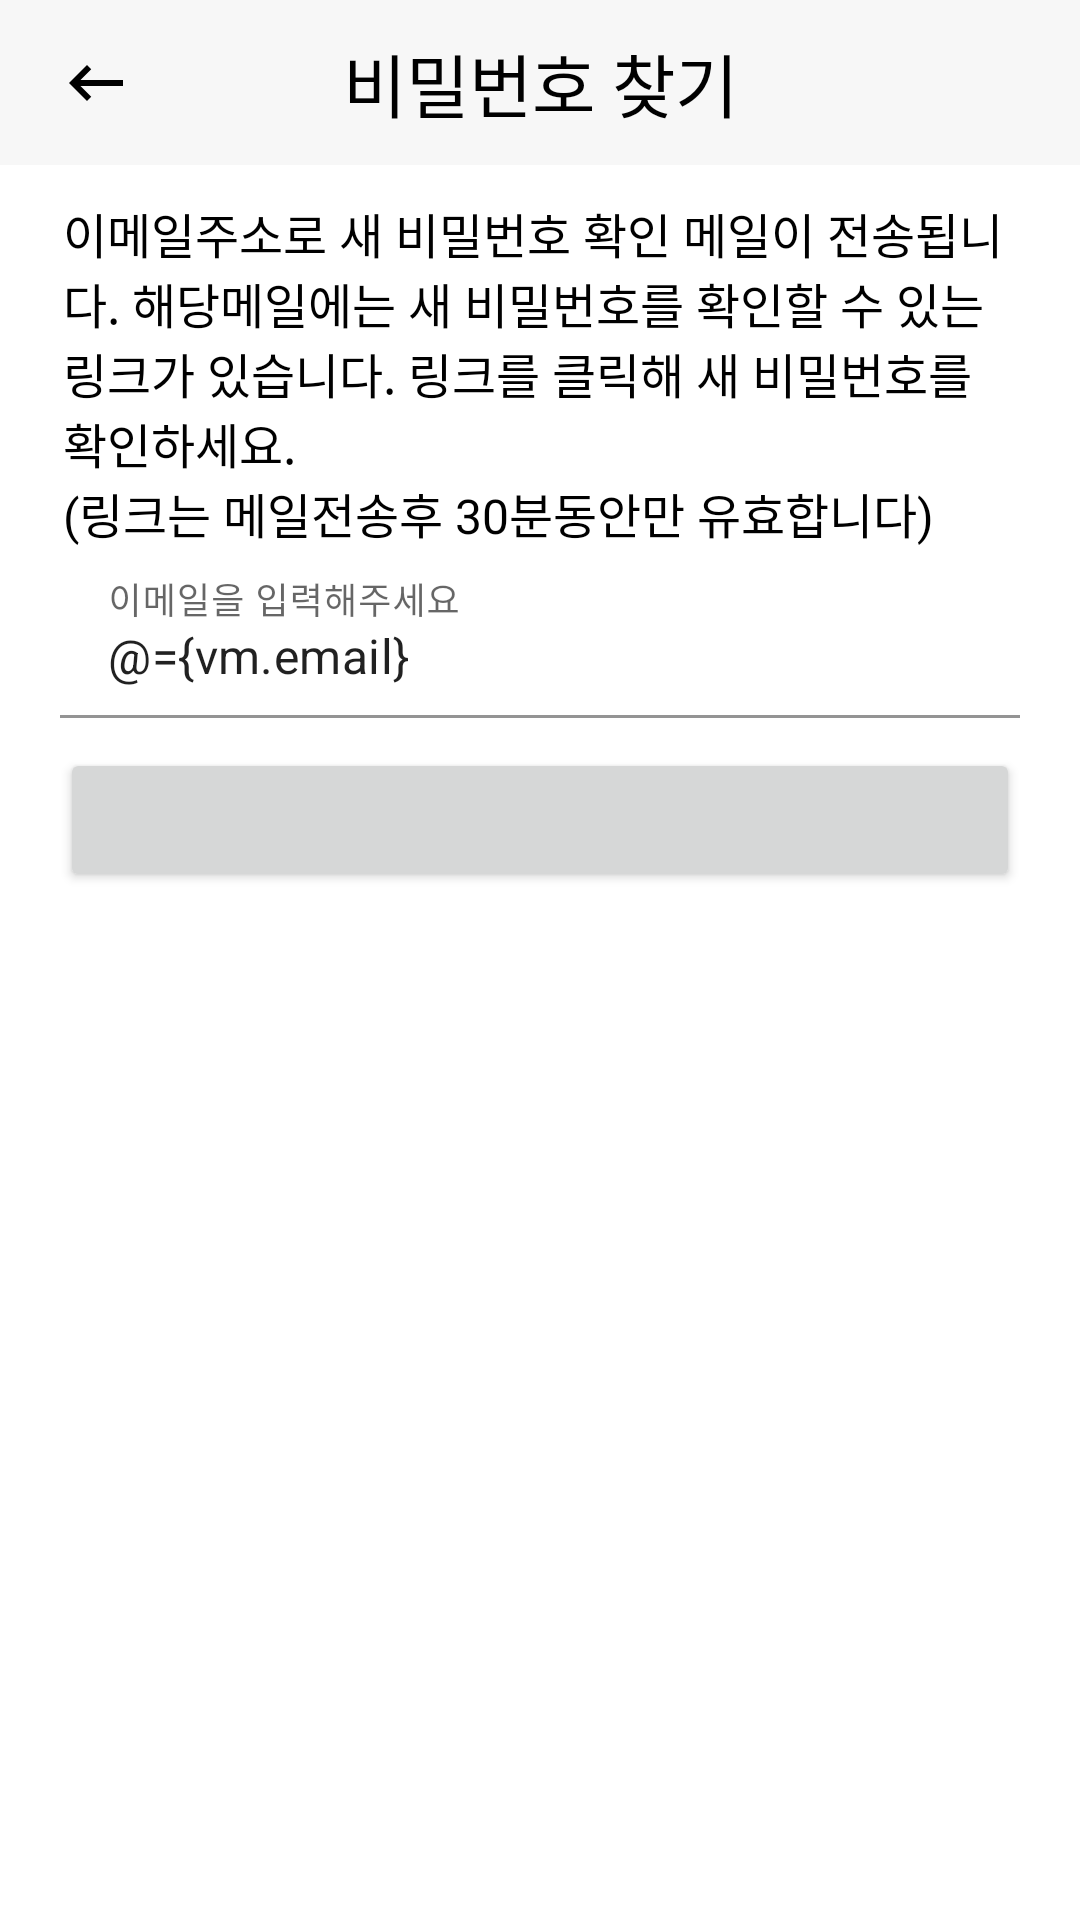

Locate icon controls on the screen. Image size 1080px×1920px, boxes as box=[x1, y1, x2, y2].
keyboard backspace: box=[69, 65, 123, 101]
